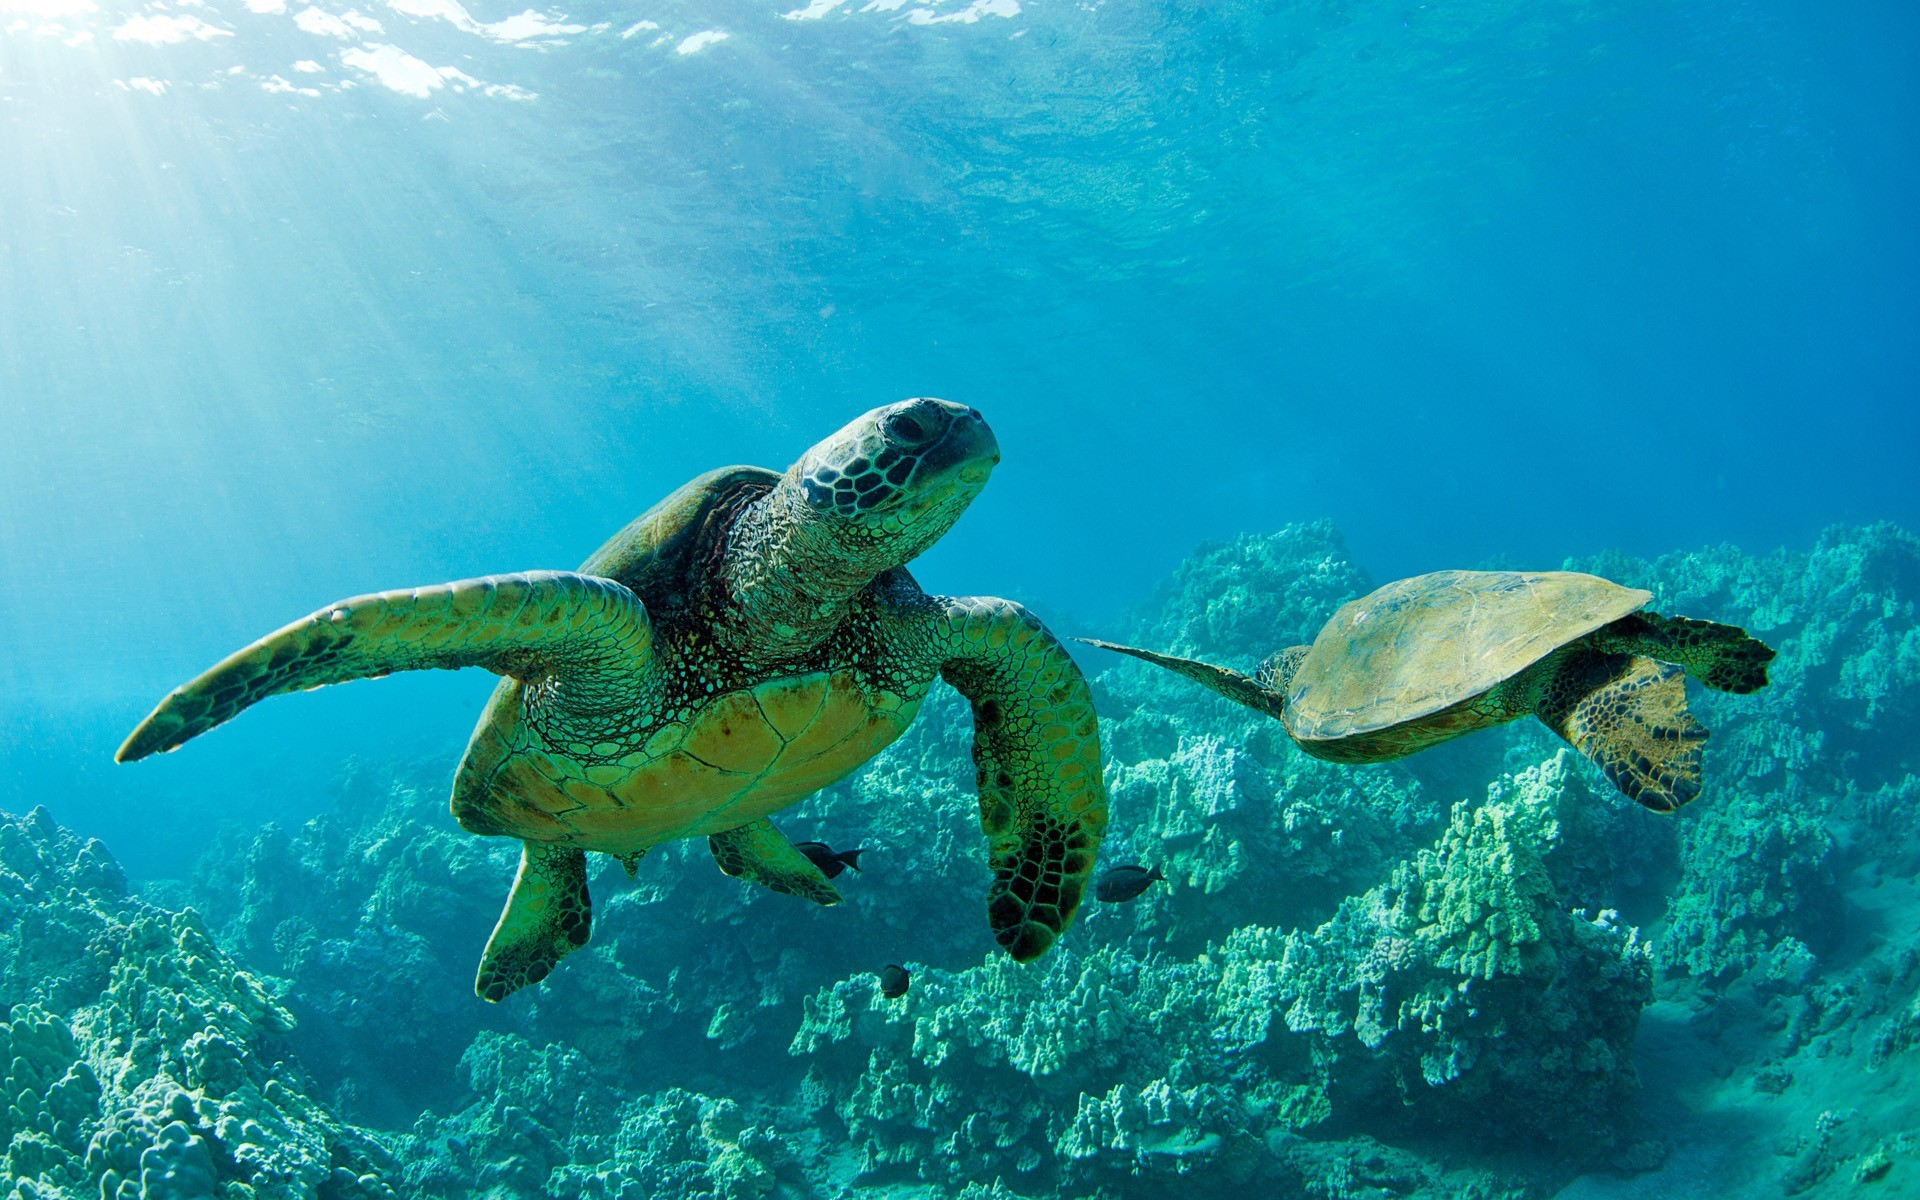eye: (871, 401, 944, 458)
mouth: (874, 444, 1015, 535)
